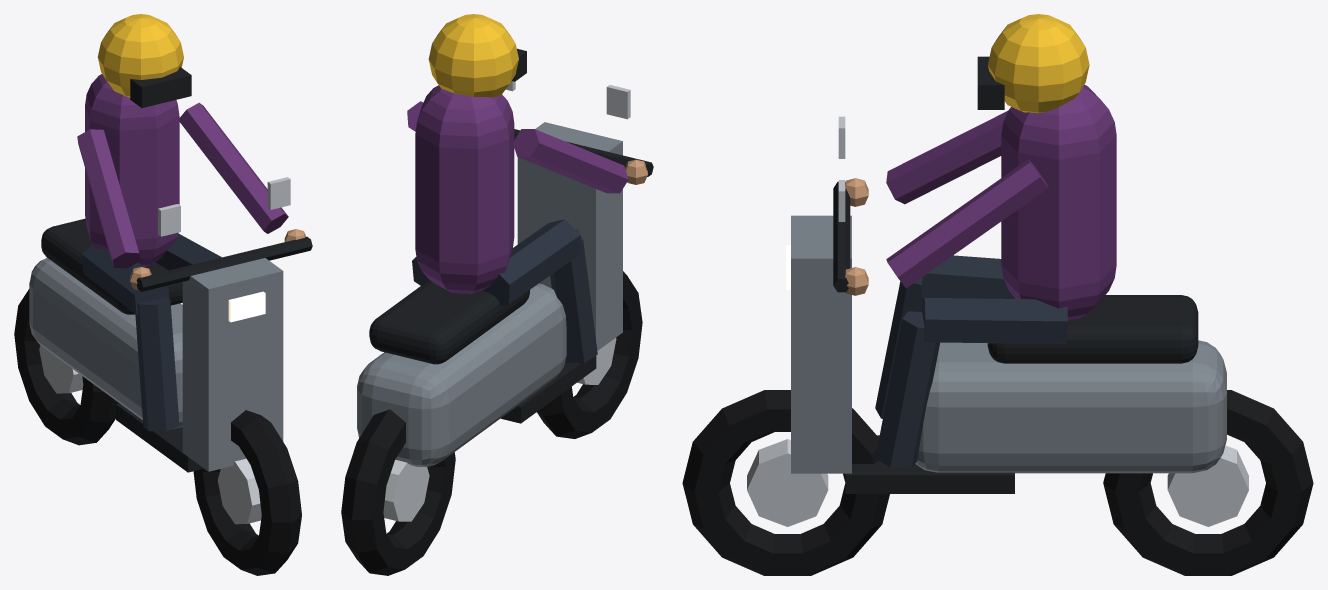
File: motorbike_e.glb
3 renders of one model, left to right at view 1: azimuth 30°, elevation 25°; view 2: azimuth 150°, elevation 25°; view 3: azimuth 270°, elevation 25°, orthographic. The views are drawn at different scales.
Visible parts, largest first — view 1: moto; view 2: moto; view 3: moto.
Boxes of the visible parts, x1,y1,x2,y2 form: moto: (14, 14, 312, 575); moto: (341, 14, 653, 575); moto: (682, 14, 1313, 575).
Bounding box in the file's own units: 0.71 × 1.81 × 1.86.
